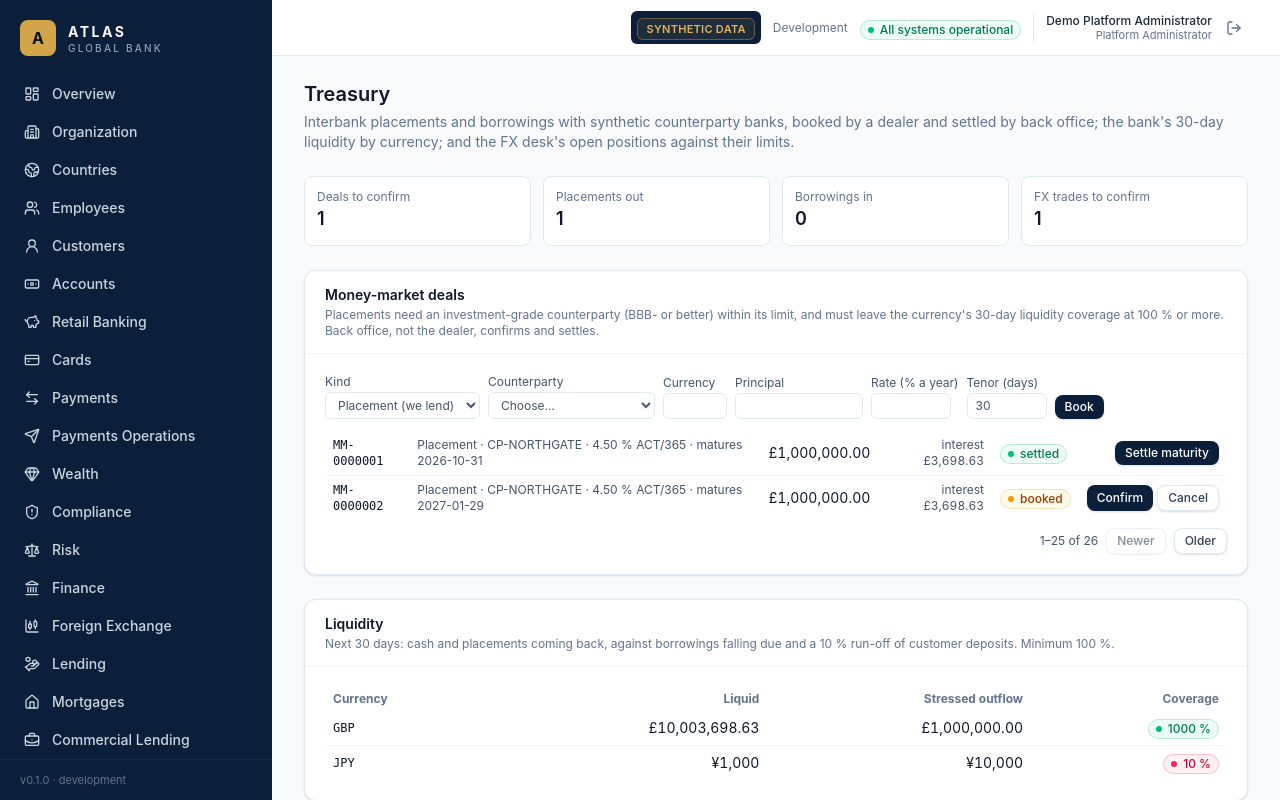
Scenario: Treasury page › pages back to older deals and FX trades beyond the newest 25 (PR #30 review)
This screenshot has width=1280, height=800.
Expected: the navigation bar named "Deal pages" shows "1–25 of 26", top-left (1040, 528), bottom-right (1227, 554)
What coordinates should you click on to do the following:
click the button "Older"
I would click on:
 (1200, 541)
Its box is top-left (1174, 528), bottom-right (1227, 554).
(page scrolled)
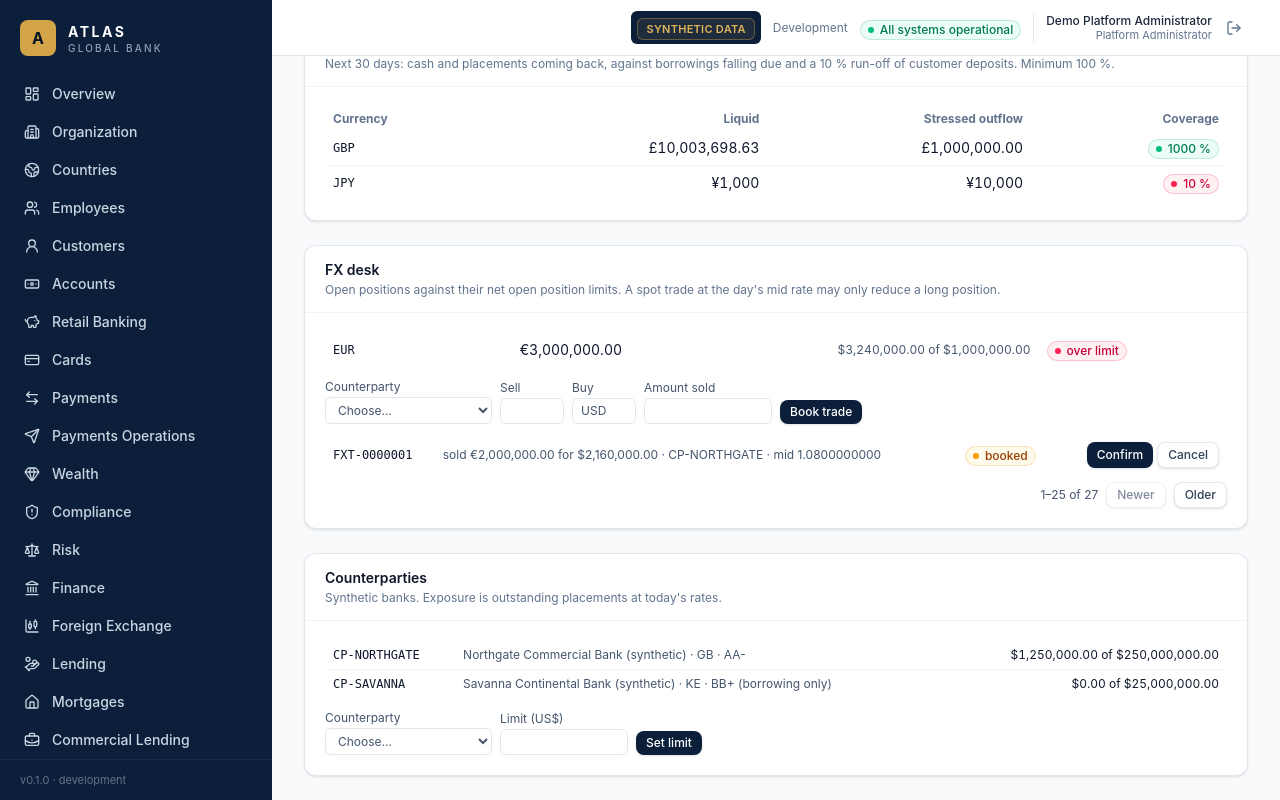
What coordinates should you click on to do the following:
click the button "Older"
I would click on:
 (1200, 495)
Its box is top-left (1174, 482), bottom-right (1227, 508).
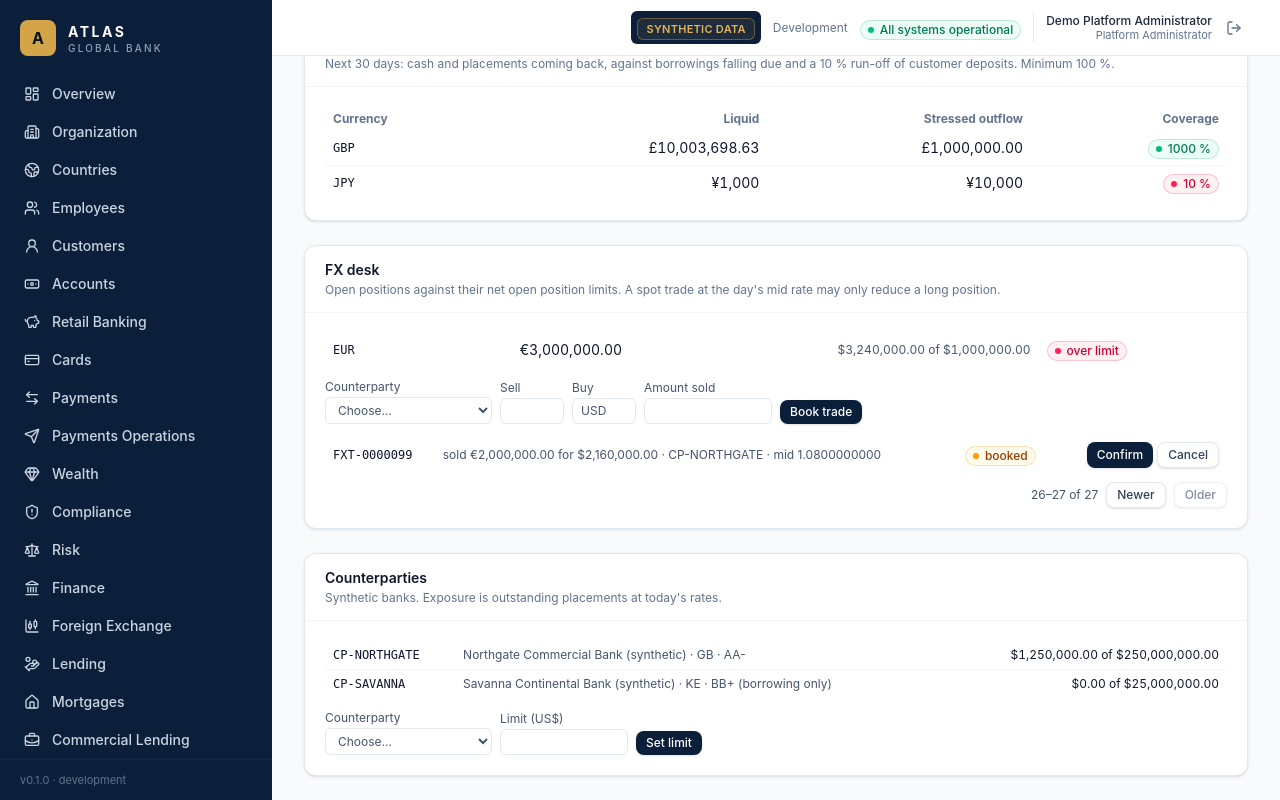
Expected: the text "FXT-0000099" is shown, top-left (325, 436), bottom-right (435, 474)
Expected: the navigation bar named "FX trade pages" shows "26–27 of 27", top-left (1031, 482), bottom-right (1227, 508)
